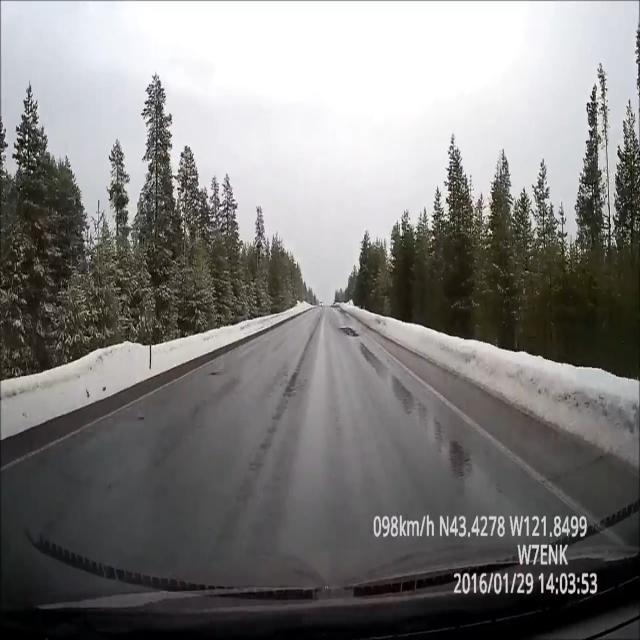Buraco: (338, 327, 361, 338)
